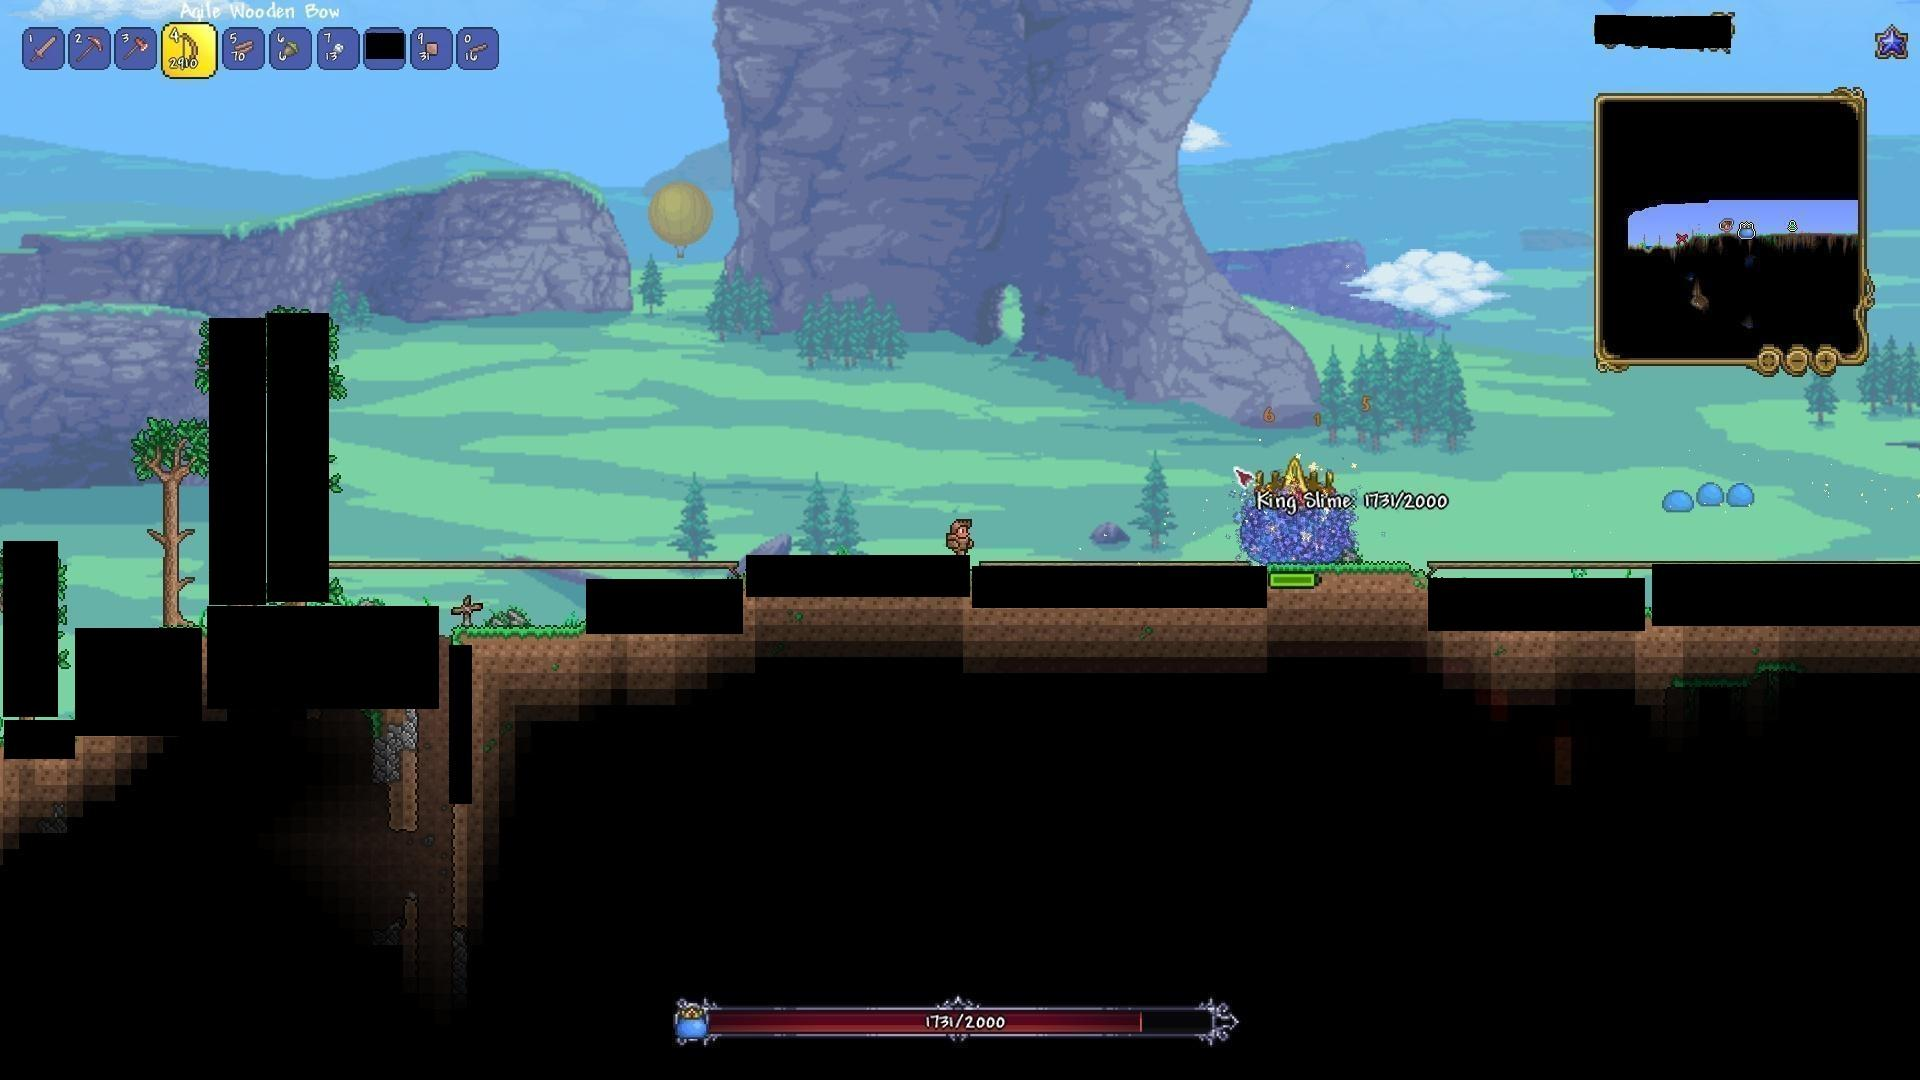dirt: (1265, 558, 1424, 597), (458, 617, 584, 647)
slime: (1662, 485, 1698, 513), (1695, 480, 1729, 508), (1725, 481, 1756, 508)
tree: (136, 407, 202, 624)
wood: (228, 33, 260, 63)
